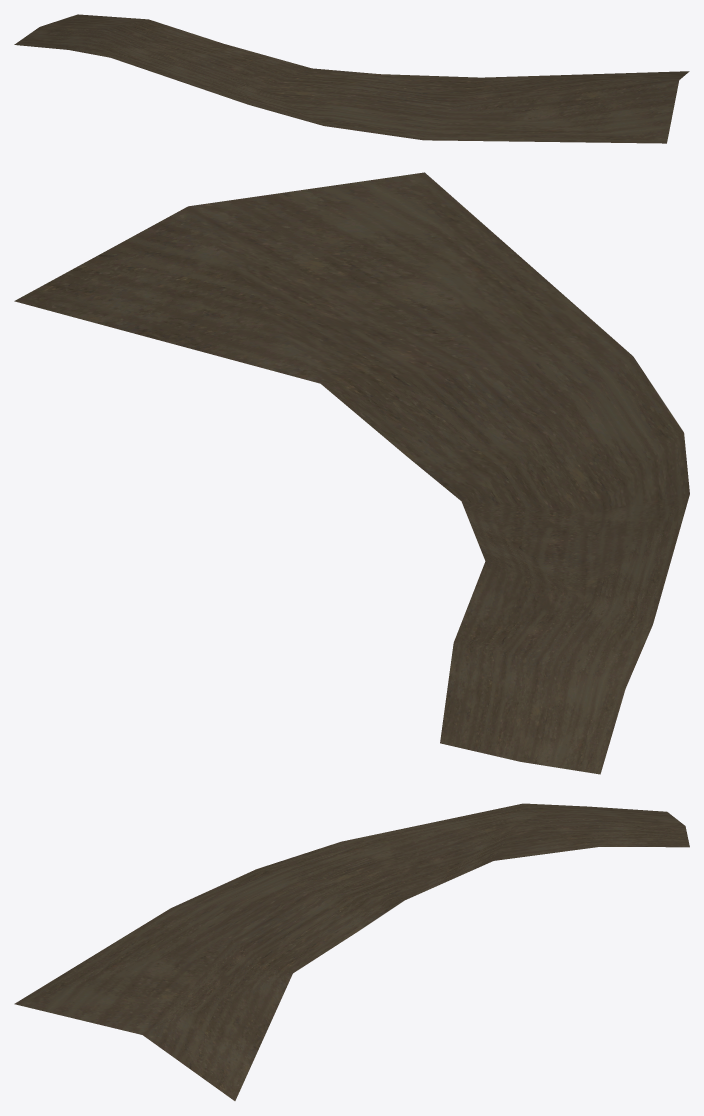
File: menu_billboard_terrain2.fbx
3 renders of one model, top to bottom at view 1: azimuth 30°, elevation 25°; view 2: azimuth 150°, elevation 25°; view 3: azimuth 270°, elevation 25°, orthographic. The views are drawn at different scales.
Parts seen in each view (by area): view 1: new_stone/Path_center_shadow; view 2: new_stone/Path_center_shadow; view 3: new_stone/Path_center_shadow.
Boxes of the visible parts, bbox=[...] form: new_stone/Path_center_shadow: bbox=[14, 14, 689, 143]; new_stone/Path_center_shadow: bbox=[14, 172, 689, 774]; new_stone/Path_center_shadow: bbox=[14, 803, 689, 1100].
Size of the model in its own units: 9.3 by 0.6405 by 9.55.
